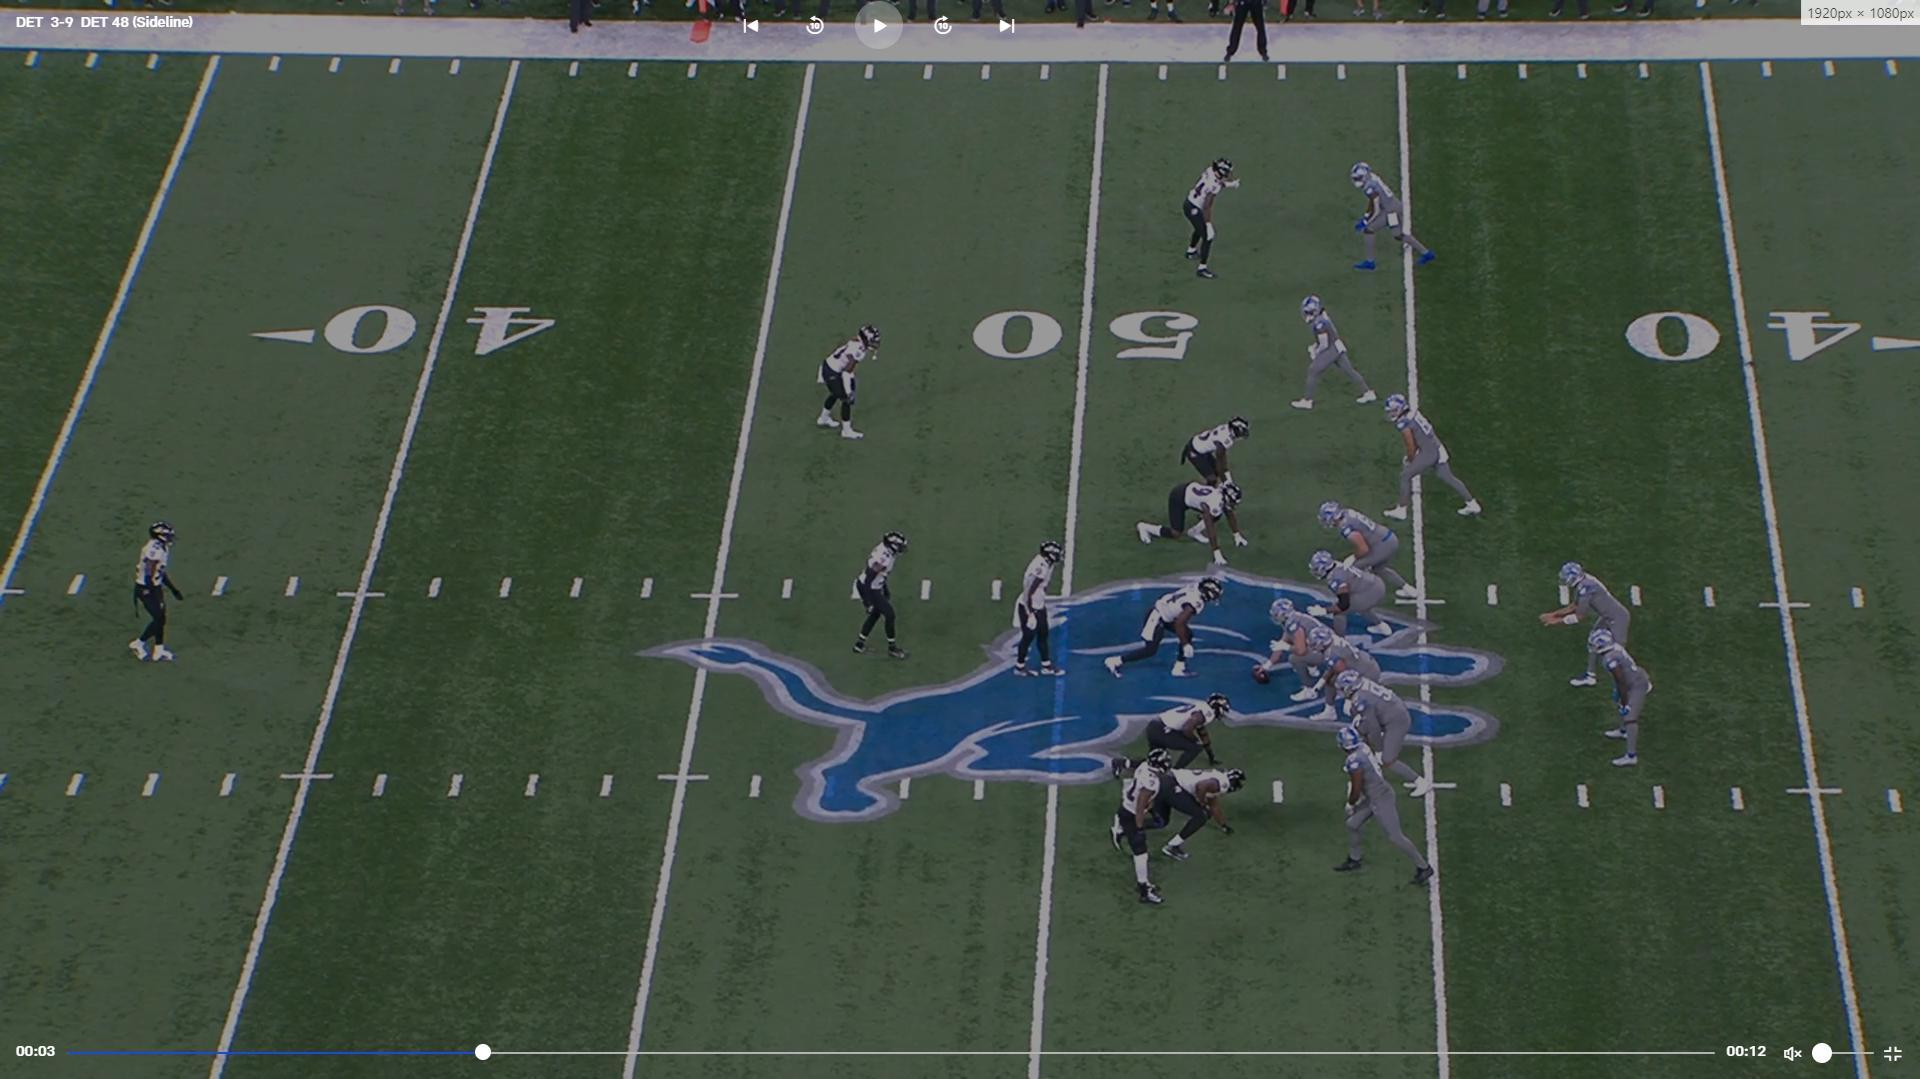defense: (1100, 572, 1215, 683), (1109, 756, 1192, 909), (1124, 766, 1249, 861), (1131, 479, 1253, 559), (1010, 538, 1075, 689), (847, 526, 914, 667), (815, 318, 886, 446), (128, 516, 182, 669), (1127, 693, 1225, 774), (1178, 153, 1236, 285), (1180, 414, 1255, 492)
oline: (1329, 667, 1429, 799), (1324, 499, 1419, 604), (1313, 550, 1403, 642), (1257, 600, 1342, 695), (1300, 623, 1379, 714)
qb: (1545, 555, 1640, 696)
ref: (1217, 0, 1291, 78)
skill: (1325, 725, 1428, 890), (1385, 393, 1486, 525), (1284, 293, 1378, 419), (1345, 158, 1443, 272), (1597, 629, 1667, 772)
